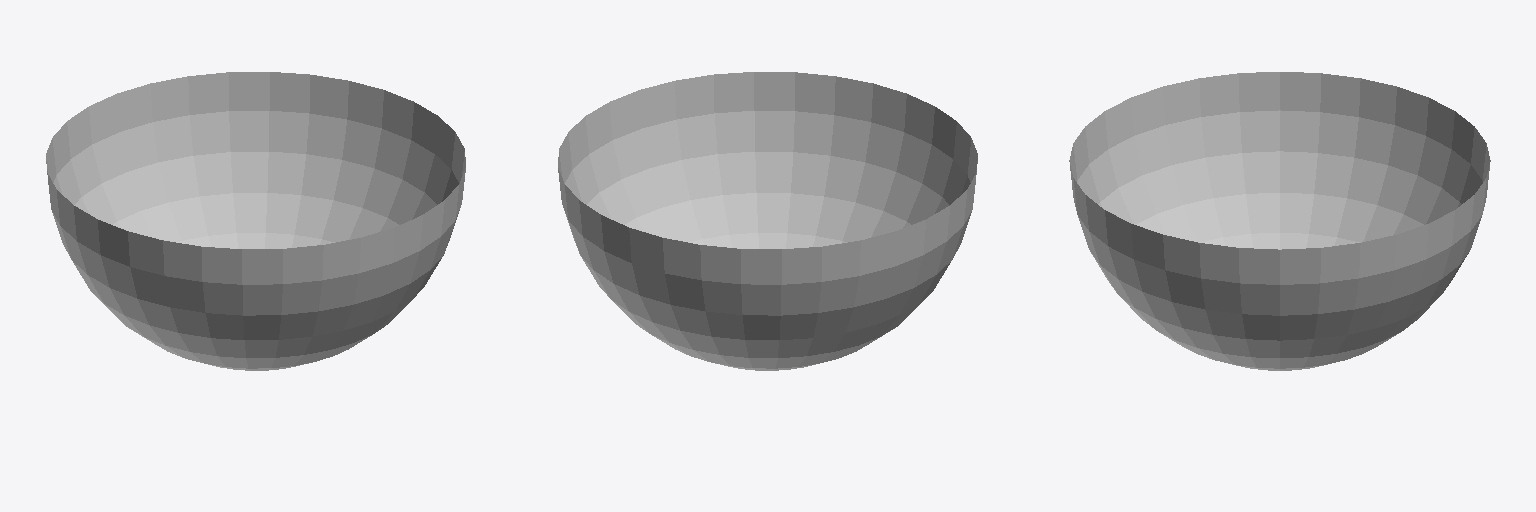
File: sortie_fusee.obj
3 views of the same model, side by side, from view 1: azimuth 30°, elevation 25°; view 2: azimuth 150°, elevation 25°; view 3: azimuth 270°, elevation 25° (orthographic).
Parts seen in each view (by area): view 1: sortie_fusée.001; view 2: sortie_fusée.001; view 3: sortie_fusée.001.
Part boxes in pixels (left/top/right/bottom): sortie_fusée.001: left=46, top=72, right=465, bottom=370; sortie_fusée.001: left=558, top=72, right=977, bottom=370; sortie_fusée.001: left=1069, top=72, right=1490, bottom=370.
Bounding box in the file's own units: 7.81 × 3.91 × 7.81.